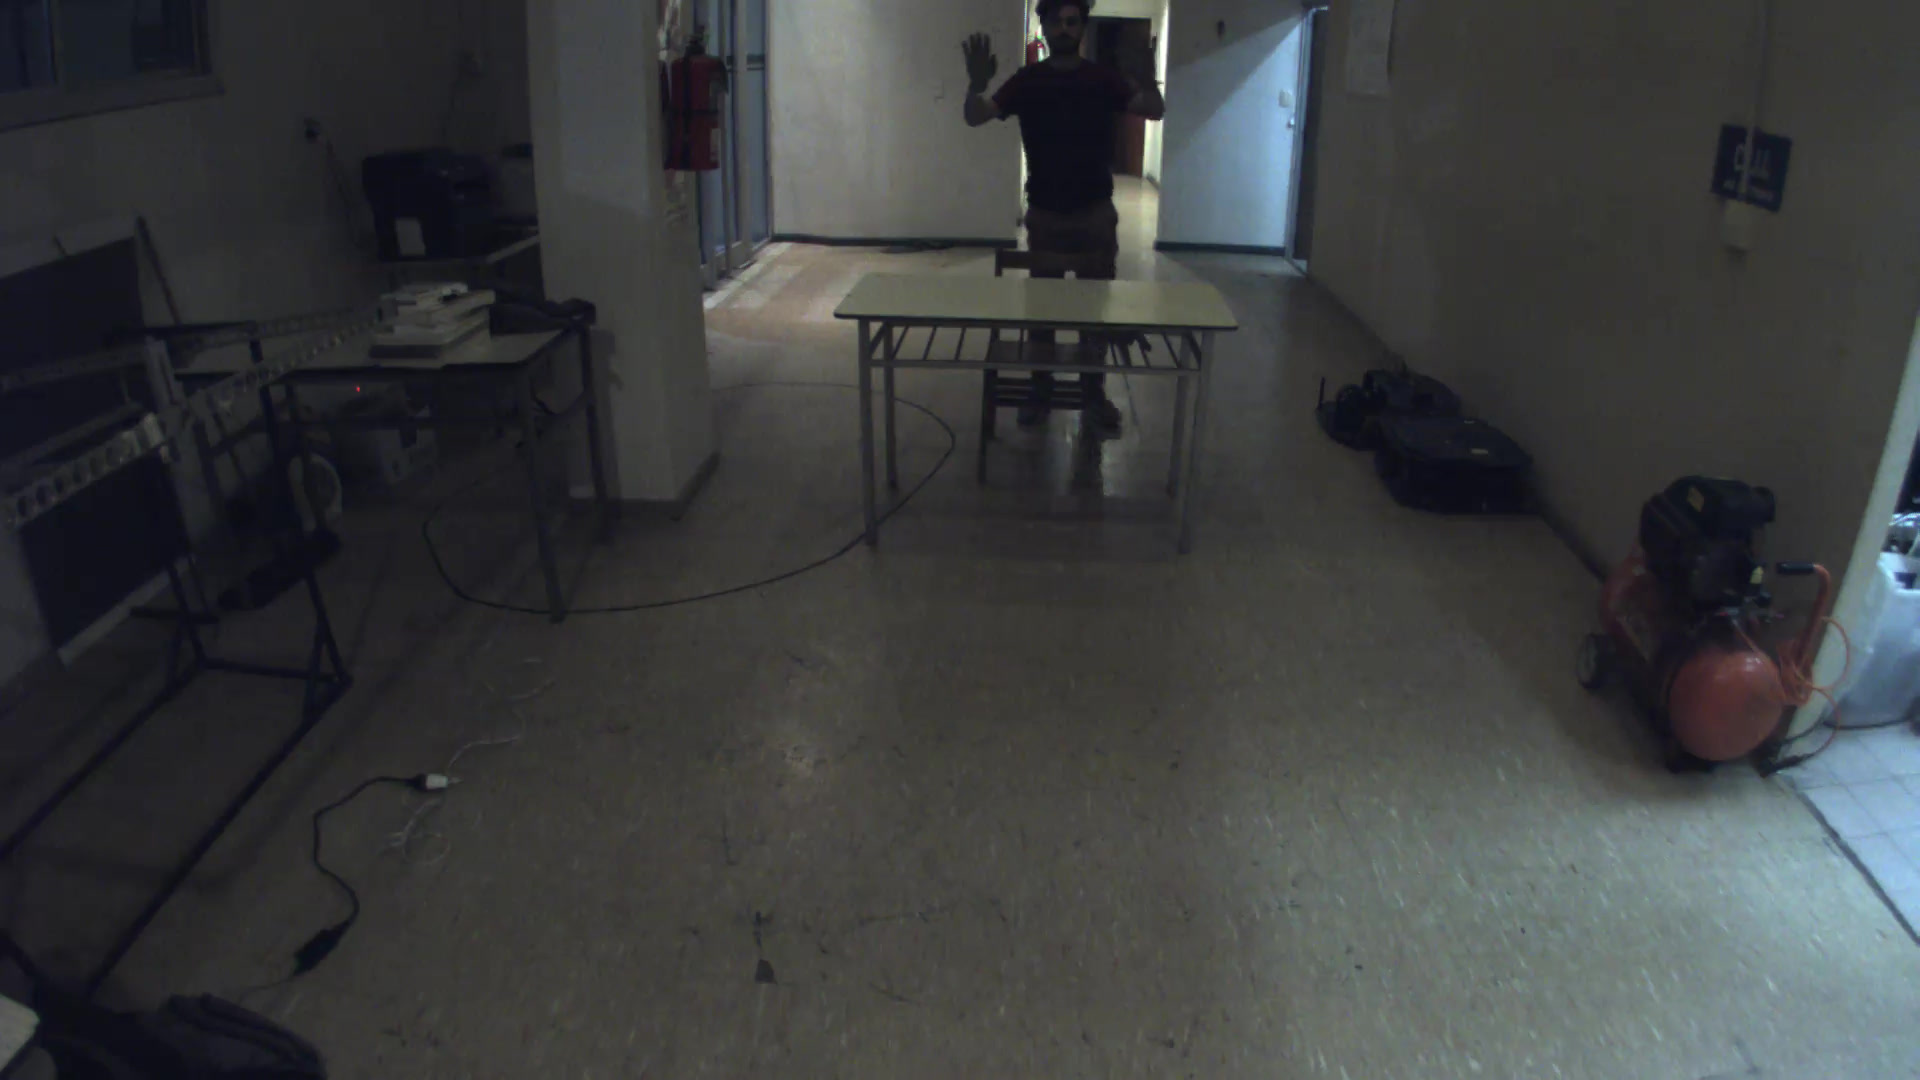hand: (1120, 30, 1172, 94), (955, 26, 1005, 91)
